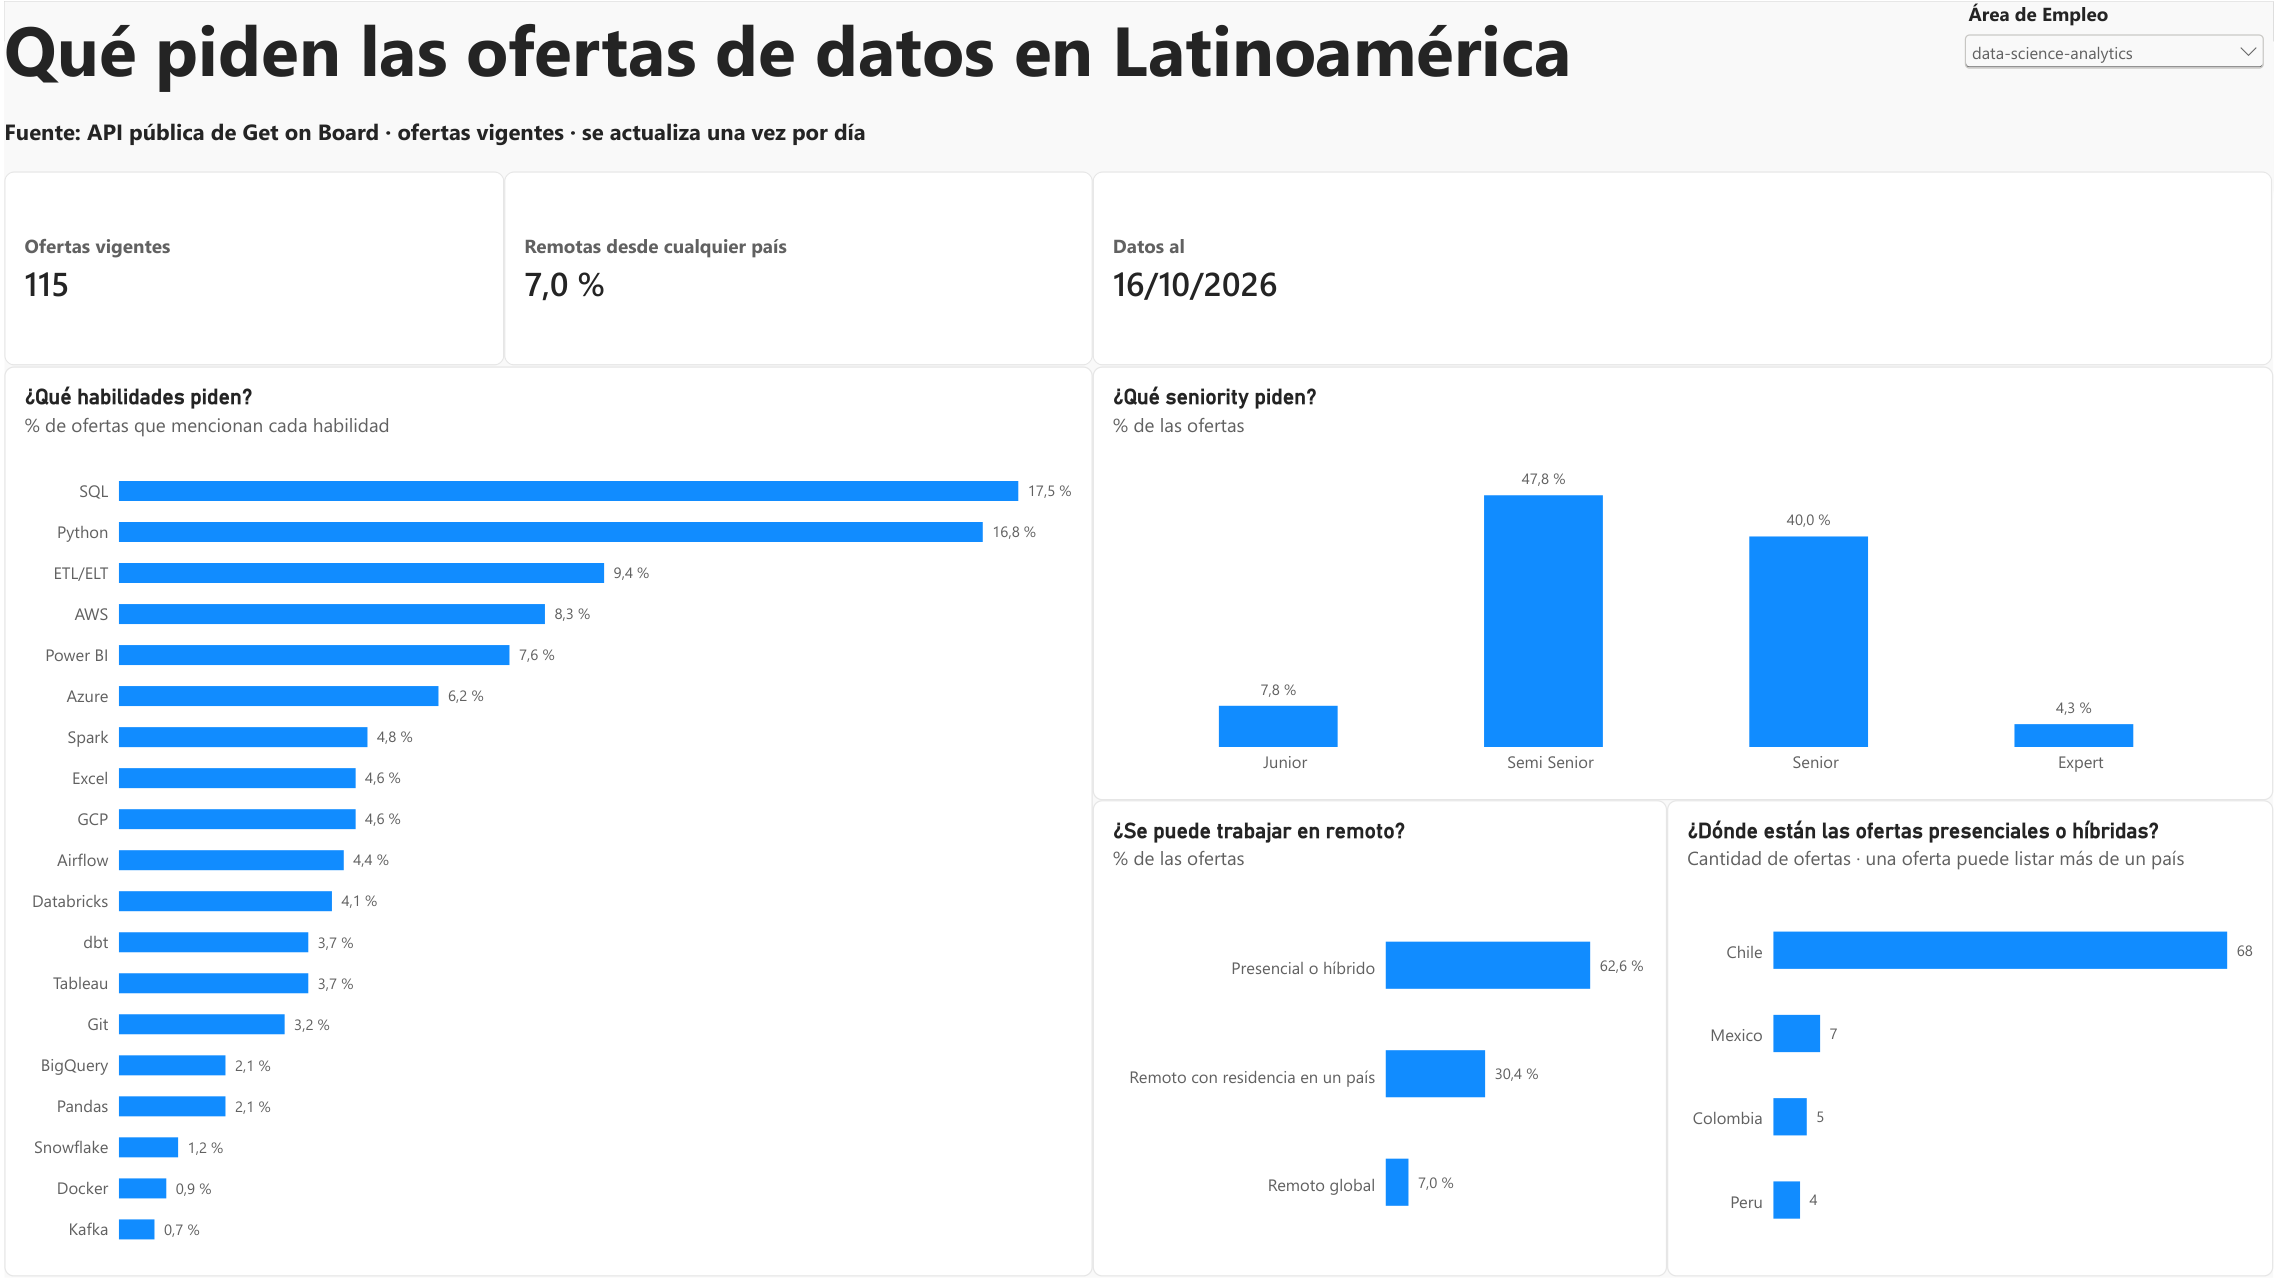

This screenshot's page, from the dashboard's own definition file:
{"tool":"powerbi","page":{"name":"Página 1","canvas":[1920,1080],"ordinal":0},"visuals":[{"type":"cardVisual","fields":{"Data":["Ofertas.Total ofertas"]},"box":[0,144,423,164.6],"z":0},{"type":"clusteredBarChart","title":"¿Qué habilidades piden?","fields":{"Category":["Habilidades.skill"],"Y":["Ofertas.% de ofertas"]},"box":[0,308.7,921.4,769.9],"z":3},{"type":"slicer","fields":{"Values":["Ofertas.categoria"]},"box":[1654,0,263.4,76],"z":4},{"type":"clusteredColumnChart","title":"¿Qué seniority piden?","fields":{"Category":["Ofertas.seniority"],"Y":["Ofertas.% del Total"]},"box":[921.4,308.7,998.6,367.1],"z":5},{"type":"clusteredBarChart","title":"¿Se puede trabajar en remoto?","fields":{"Category":["Ofertas.alcance"],"Y":["Ofertas.% del Total"]},"box":[921.4,675.8,485.6,402.8],"z":6},{"type":"clusteredBarChart","title":"¿Dónde están las ofertas presenciales o híbridas?","fields":{"Category":["Paises.pais"],"Y":["Ofertas.Ofertas por pais"]},"box":[1407.1,675.8,512.9,402.8],"z":7},{"type":"cardVisual","fields":{"Data":["Ofertas.% remoto global"]},"box":[422.6,144,498.8,164.7],"z":8},{"type":"cardVisual","fields":{"Data":["Ofertas.Datos al"]},"box":[921.4,144,998.6,164.7],"z":9},{"type":"textbox","box":[0,0,1653.6,144],"z":10}]}

Visuals, with their boxes in screenshot pixels (x1, y1, x2, y2), scaled from the page's 1920x1080 canvas onto the 2274x1279 screenshot:
cardVisual - Ofertas.Total ofertas: l=0, t=171, r=501, b=365
"¿Qué habilidades piden?" clusteredBarChart: l=0, t=366, r=1091, b=1277
slicer - Ofertas.categoria: l=1959, t=0, r=2271, b=90
"¿Qué seniority piden?" clusteredColumnChart: l=1091, t=366, r=2273, b=800
"¿Se puede trabajar en remoto?" clusteredBarChart: l=1091, t=800, r=1666, b=1277
"¿Dónde están las ofertas presenciales o híbridas?" clusteredBarChart: l=1667, t=800, r=2273, b=1277
cardVisual - Ofertas.% remoto global: l=501, t=171, r=1091, b=366
cardVisual - Ofertas.Datos al: l=1091, t=171, r=2273, b=366
textbox: l=0, t=0, r=1958, b=171
